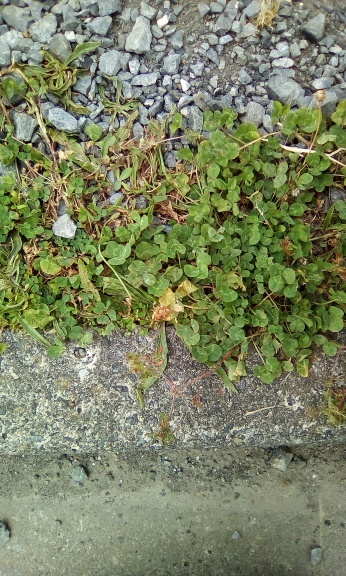4leaf: (128, 260, 156, 288)
